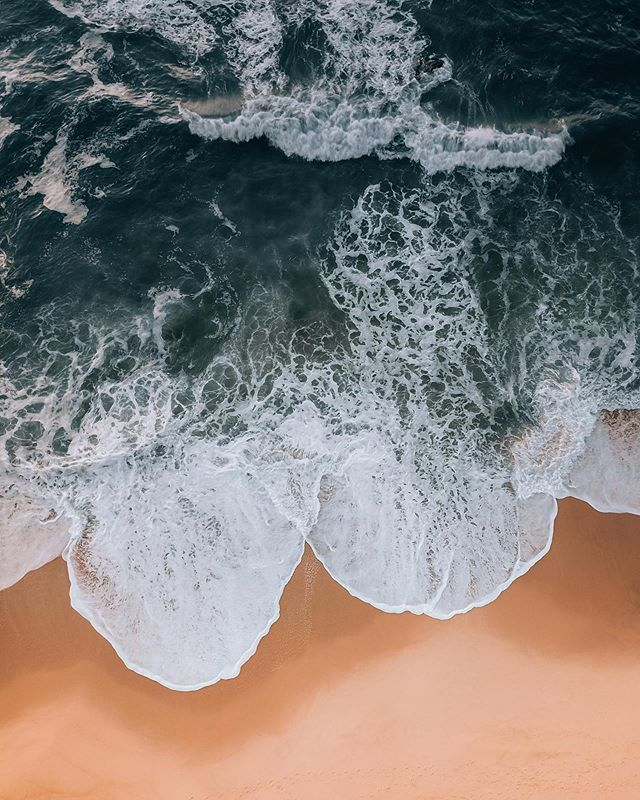beach: (1, 508, 640, 800)
sea: (1, 1, 640, 496)
